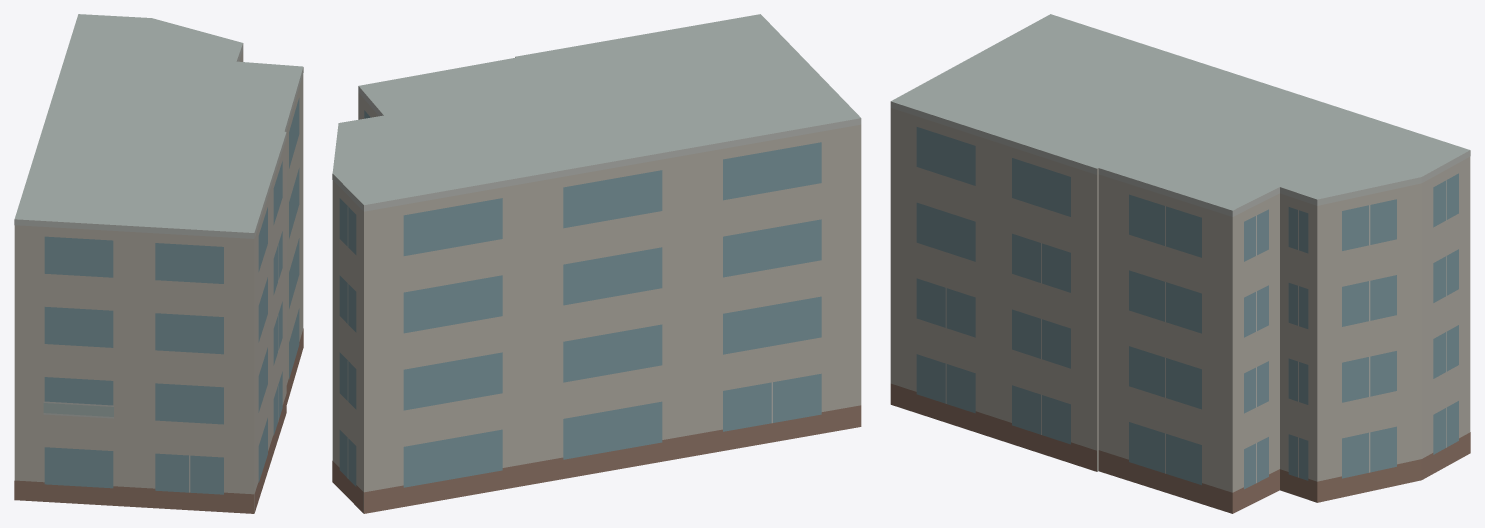
File: survey-upis-32802887.glb
The picture shows the model from 3 angles, left to right: view 1: azimuth 30°, elevation 25°; view 2: azimuth 150°, elevation 25°; view 3: azimuth 270°, elevation 25°; orthographic projection. The views are drawn at different scales.
Parts seen in each view (by area): view 1: survey-upis-32802887.tmp; view 2: survey-upis-32802887.tmp; view 3: survey-upis-32802887.tmp.
Part boxes in pixels (box(x1,y1,x2,y2)): survey-upis-32802887.tmp: box(14, 14, 303, 513); survey-upis-32802887.tmp: box(332, 14, 861, 513); survey-upis-32802887.tmp: box(890, 14, 1470, 513).
Size of the model in its own units: 16.22 by 11.65 by 20.2.
